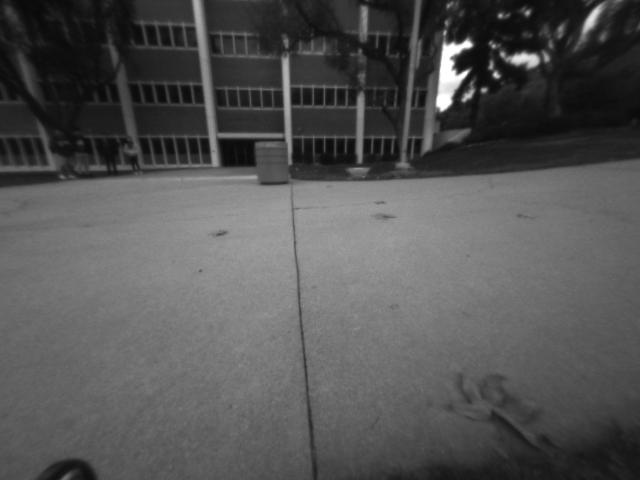trashcan: (254, 136, 292, 186)
